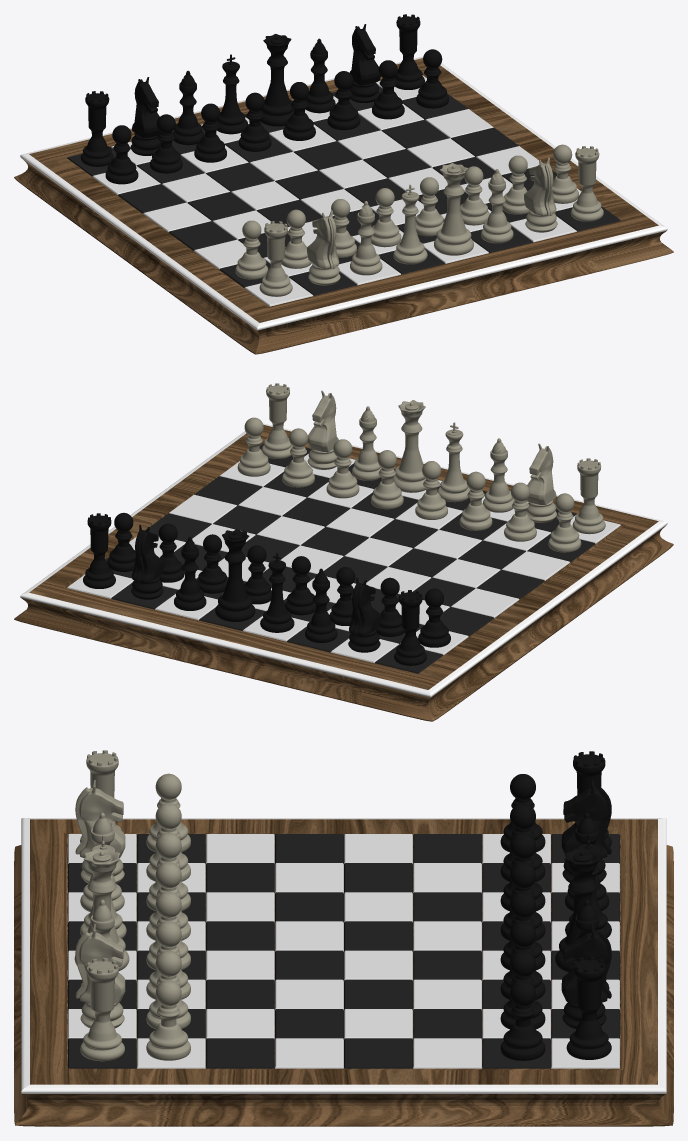
Rendered from chess set.glb.
3 views of the same model, one above another, from view 1: azimuth 30°, elevation 25°; view 2: azimuth 150°, elevation 25°; view 3: azimuth 270°, elevation 25° (orthographic). The views are drawn at different scales.
Parts seen in each view (by area): view 1: Plane, Cube, Plane.001, Plane.002, pPlane13, pPlane13.001, pPlane13.004, pPlane13.003, Black chess side.014, White chess side.011, White chess side.012, Black chess side.015 (+22 smaller); view 2: Plane, Cube, Plane.002, Plane.001, pPlane13.004, pPlane13.003, pPlane13, pPlane13.001, Black chess side.015, Black chess side.014, White chess side.012, White chess side.011 (+22 smaller); view 3: Plane, Cube, White chess side.011, Black chess side.015, pPlane13.001, pPlane13, pPlane13.003, pPlane13.004, White chess side.010, Black chess side, Plane.002, Plane.001 (+22 smaller).
Part boxes in pixels (x1=…): Plane: x1=67, y1=75, x2=620, y2=306; Cube: x1=14, y1=56, x2=673, y2=354; Plane.001: x1=434, y1=163, x2=473, y2=255; Plane.002: x1=260, y1=34, x2=293, y2=126; pPlane13: x1=524, y1=157, x2=557, y2=232; pPlane13.001: x1=307, y1=210, x2=340, y2=285; pPlane13.004: x1=349, y1=24, x2=380, y2=102; pPlane13.003: x1=130, y1=77, x2=160, y2=155; Black chess side.014: x1=80, y1=91, x2=113, y2=166; White chess side.011: x1=570, y1=146, x2=603, y2=221; White chess side.012: x1=259, y1=221, x2=292, y2=296; Black chess side.015: x1=394, y1=14, x2=424, y2=89; Plane: x1=67, y1=444, x2=620, y2=673; Cube: x1=14, y1=423, x2=673, y2=721; Plane.002: x1=215, y1=529, x2=255, y2=621; Plane.001: x1=393, y1=400, x2=425, y2=492; pPlane13.004: x1=131, y1=525, x2=164, y2=599; pPlane13.003: x1=348, y1=577, x2=381, y2=652; pPlane13: x1=307, y1=390, x2=338, y2=469; pPlane13.001: x1=526, y1=443, x2=556, y2=522; Black chess side.015: x1=83, y1=513, x2=115, y2=588; Black chess side.014: x1=394, y1=590, x2=426, y2=665; White chess side.012: x1=572, y1=458, x2=605, y2=534; White chess side.011: x1=261, y1=383, x2=292, y2=458; Plane: x1=68, y1=834, x2=619, y2=1068; Cube: x1=14, y1=818, x2=673, y2=1126; White chess side.011: x1=80, y1=958, x2=124, y2=1061; Black chess side.015: x1=566, y1=956, x2=611, y2=1059; pPlane13.001: x1=75, y1=780, x2=125, y2=883; pPlane13: x1=75, y1=924, x2=125, y2=1028; pPlane13.003: x1=561, y1=779, x2=611, y2=882; pPlane13.004: x1=561, y1=923, x2=611, y2=1028; White chess side.010: x1=146, y1=980, x2=190, y2=1060; Black chess side: x1=500, y1=980, x2=545, y2=1060; Plane.002: x1=555, y1=848, x2=600, y2=972; Plane.001: x1=74, y1=848, x2=129, y2=970.
Bounding box in the file's own units: 18.97 × 4.77 × 18.97.
7 materials, 1 textured.
